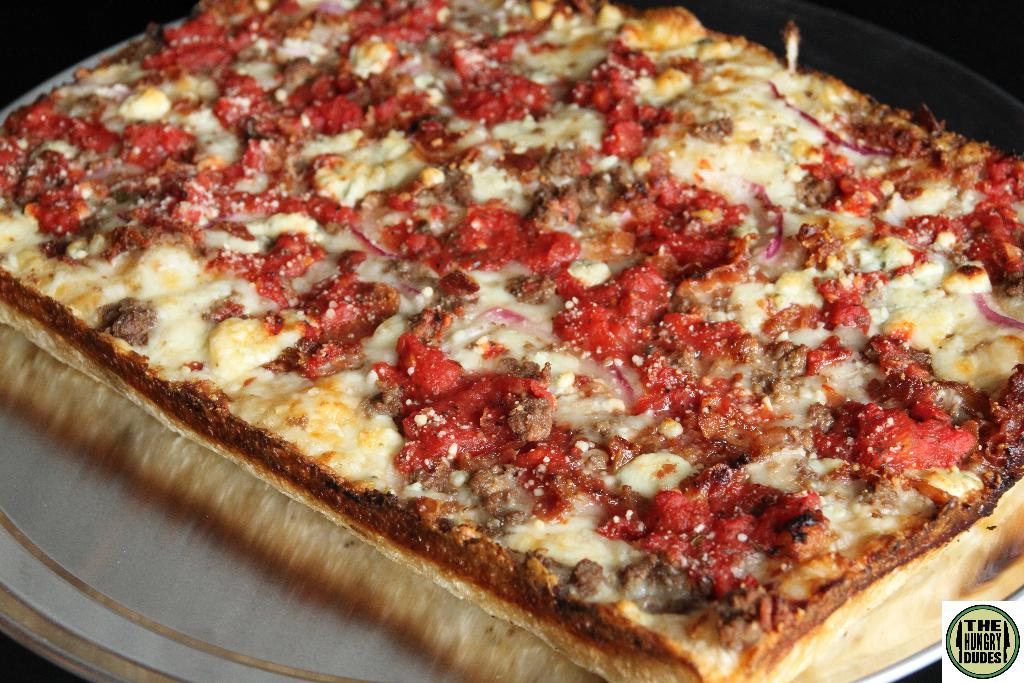pizza: (19, 10, 1024, 673)
